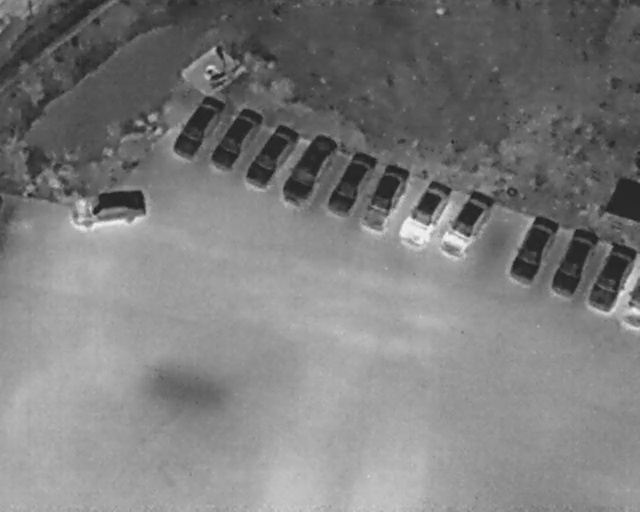Car: (274, 125, 344, 215), (435, 182, 503, 262), (393, 171, 459, 253), (238, 117, 305, 197), (544, 221, 607, 305), (320, 143, 384, 225), (203, 100, 270, 178), (166, 86, 231, 166), (354, 157, 416, 239), (503, 208, 565, 289), (582, 238, 639, 317), (67, 182, 151, 234), (621, 279, 639, 331)
